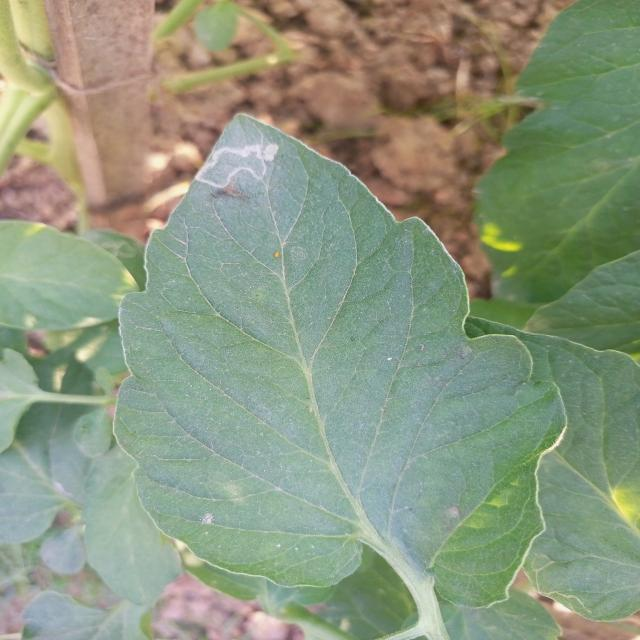Tuta absoluta: (192, 143, 281, 190)
